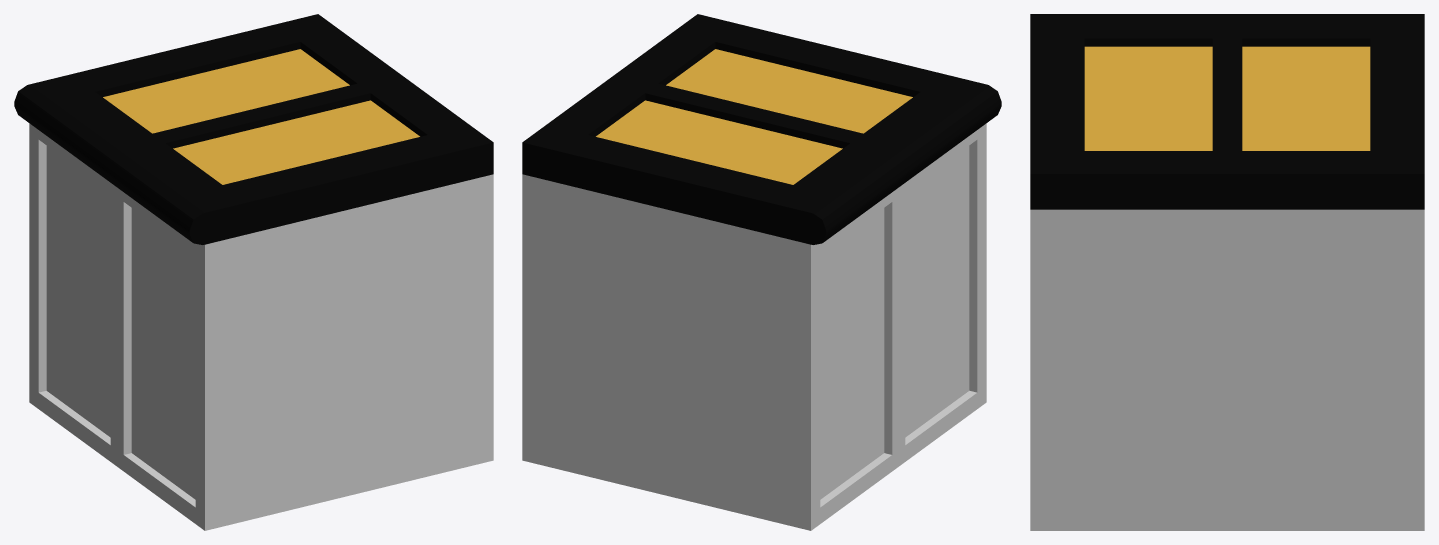
The model's file is supplycounter.fbx.
3 views of the same model, side by side, from view 1: azimuth 30°, elevation 25°; view 2: azimuth 150°, elevation 25°; view 3: azimuth 270°, elevation 25° (orthographic). The views are drawn at different scales.
Visible parts, largest first — view 1: Cube; view 2: Cube; view 3: Cube.
Boxes of the visible parts, <box> form: Cube: <box>14,14,493,530</box>; Cube: <box>522,14,1001,530</box>; Cube: <box>1030,14,1424,530</box>.
Size of the model in its own units: 200 by 200 by 200.
